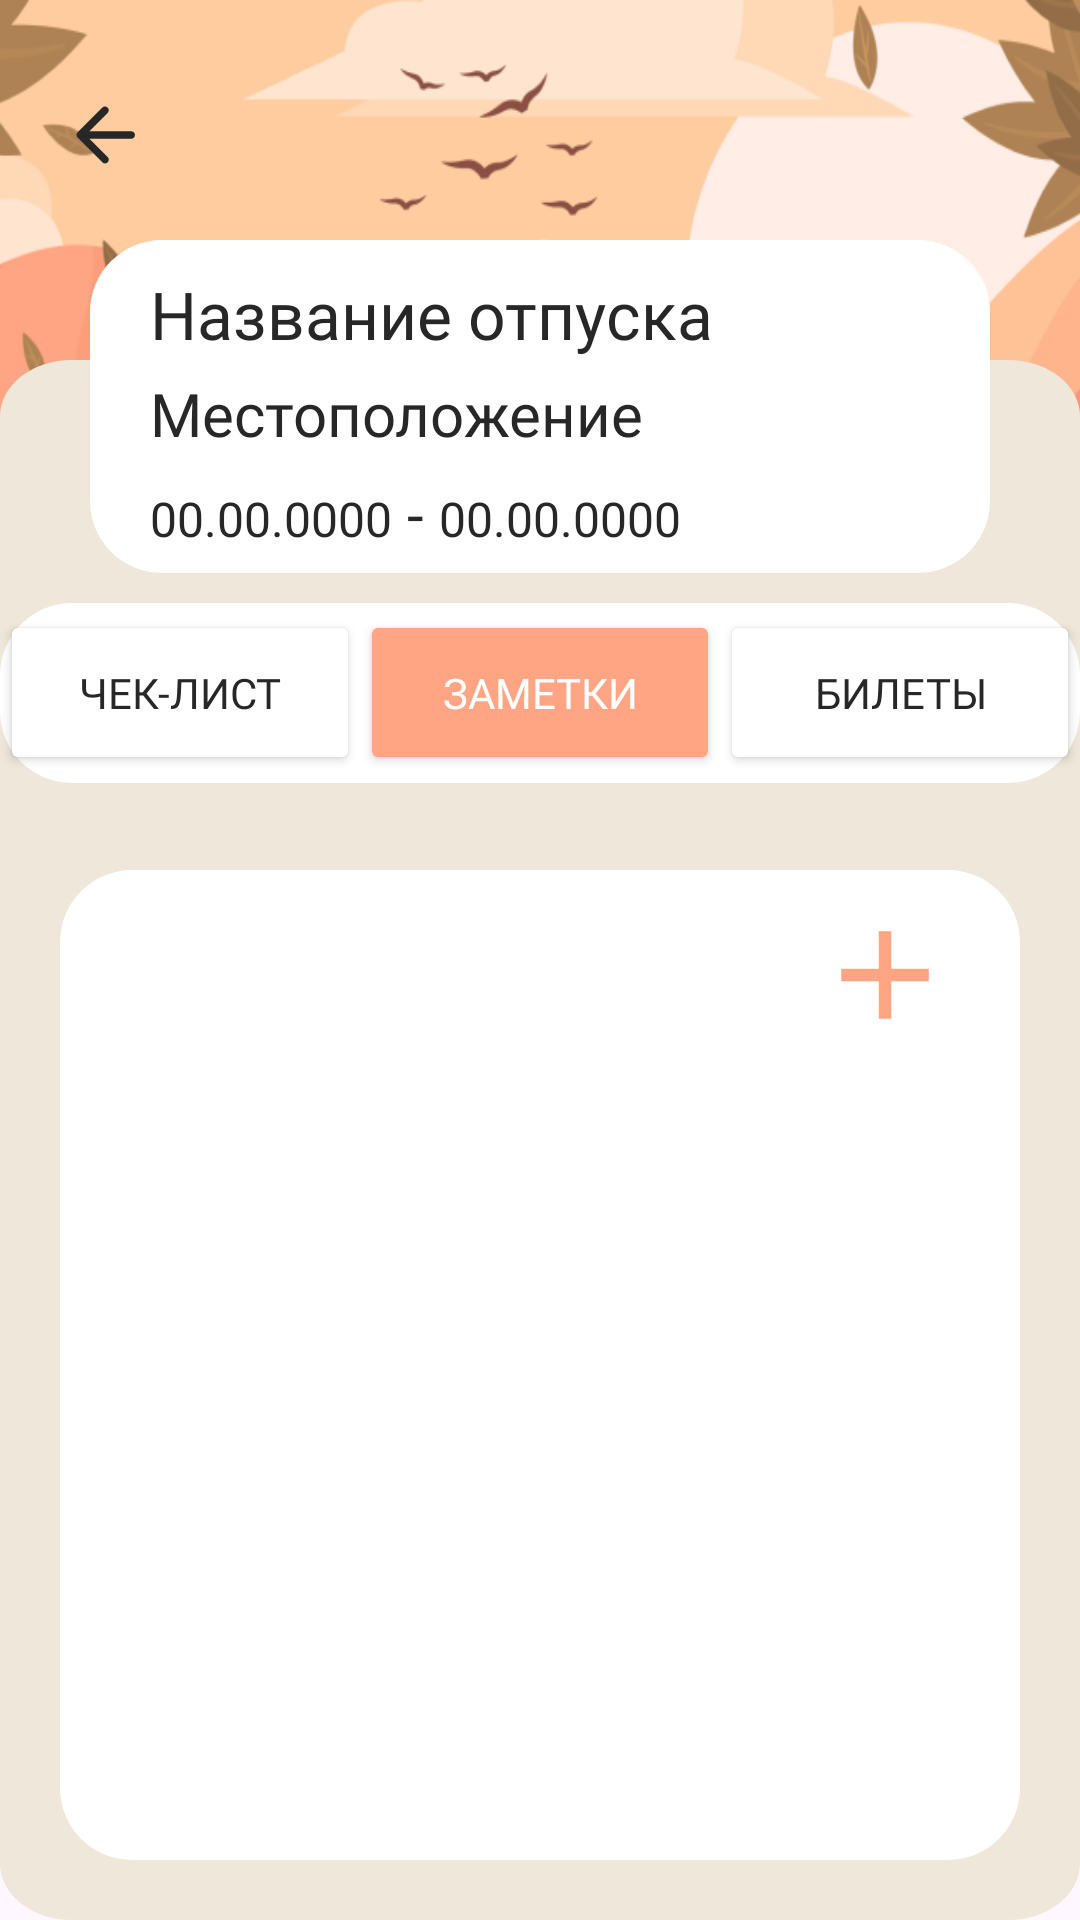

Where icons sit on this 1080w x 1920h app screen, as (x1,y1,x2,y2):
add: (841,931,929,1019)
arrow back: (60,106,135,164)
